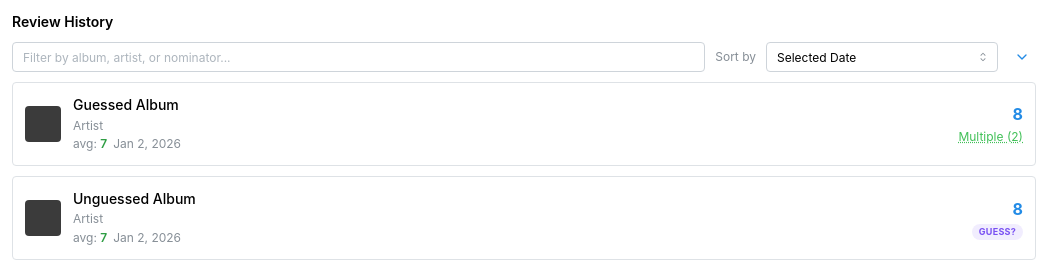
ReviewHistory nominators › matches the filter on revealed nominators
Step 1. Type "kate" into the field with placeholder "Filter by album, artist, or nominator..." → (359, 57), box [12, 42, 705, 72]
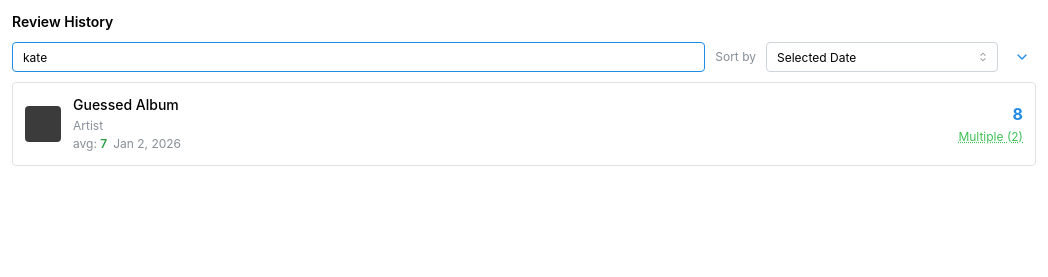
Expected: the text "Guessed Album" is shown, [73, 96, 179, 113]
Expected: the text "Unguessed Album" is gone
